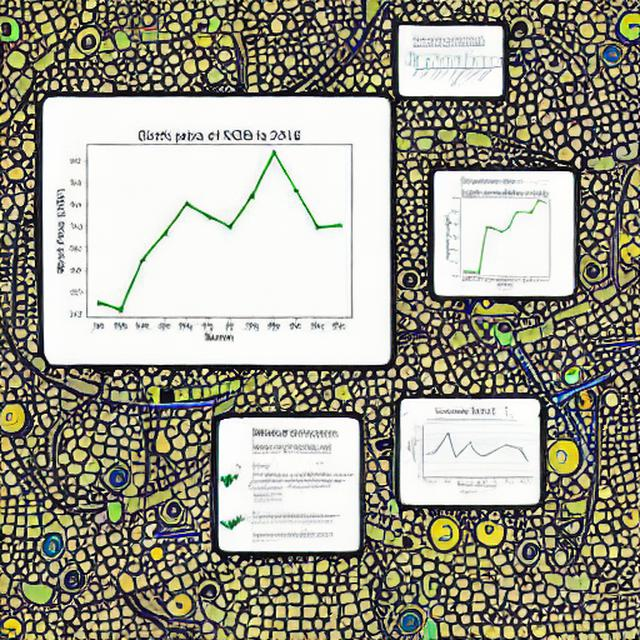Graph: (44, 101, 386, 358), (435, 185, 572, 288), (409, 415, 535, 492), (402, 36, 496, 90)
